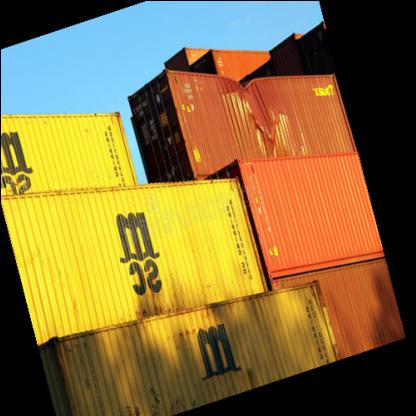Damage: (236, 82, 287, 142)
